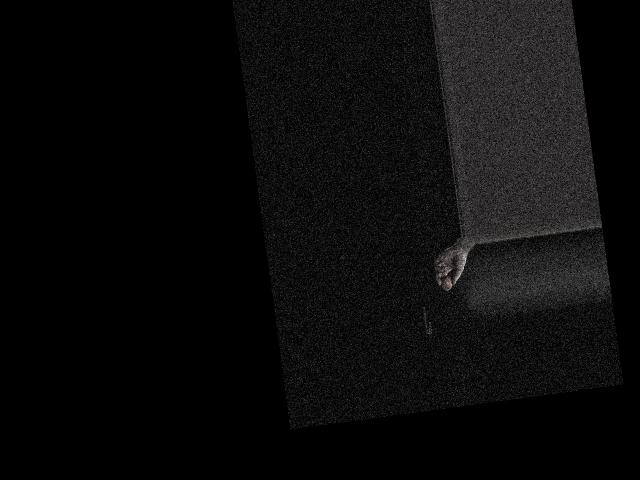egg: (440, 274, 453, 291)
